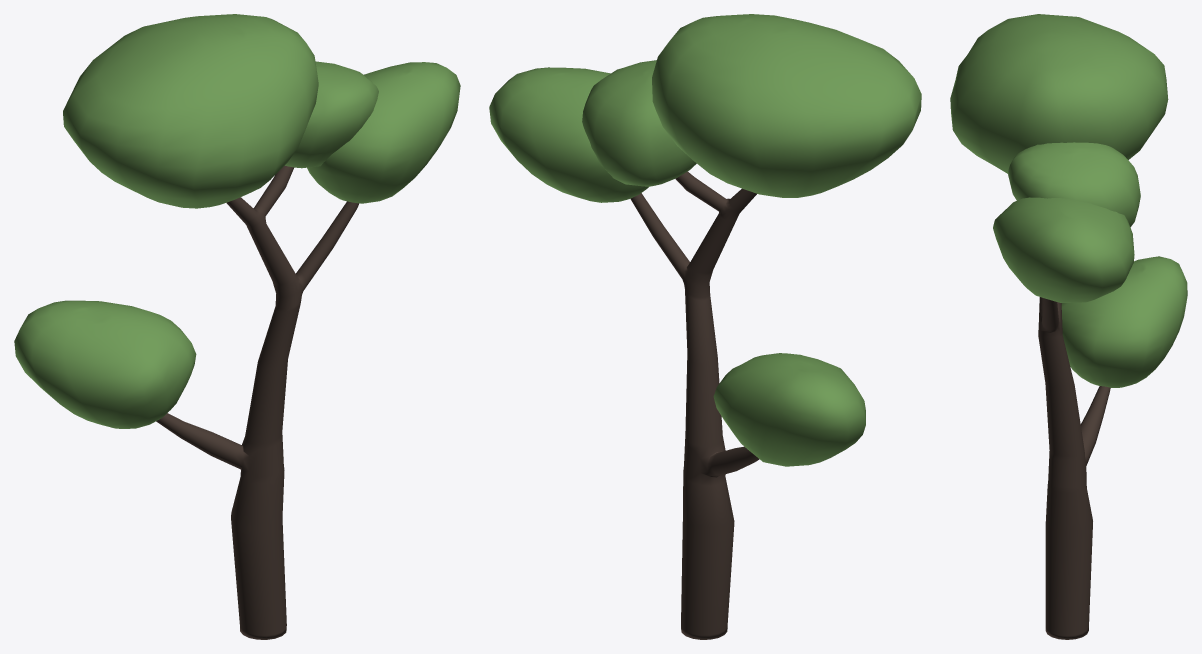
File: Mesh_Placeholder_Tree01.fbx
3 views of the same model, side by side, from view 1: azimuth 30°, elevation 25°; view 2: azimuth 150°, elevation 25°; view 3: azimuth 270°, elevation 25° (orthographic). The views are drawn at different scales.
Parts seen in each view (by area): view 1: Leaf3, Trunk, Leaf1, Leaf4, Leaf2; view 2: Leaf3, Trunk, Leaf1, Leaf4, Leaf2; view 3: Leaf3, Trunk, Leaf4, Leaf1, Leaf2.
Part boxes in pixels (x1=…): Leaf3: x1=63, y1=14, x2=318, y2=208; Trunk: x1=156, y1=165, x2=359, y2=639; Leaf1: x1=14, y1=300, x2=196, y2=428; Leaf4: x1=307, y1=62, x2=460, y2=203; Leaf2: x1=285, y1=61, x2=378, y2=168; Leaf3: x1=652, y1=14, x2=921, y2=197; Trunk: x1=630, y1=171, x2=759, y2=639; Leaf1: x1=713, y1=353, x2=865, y2=466; Leaf4: x1=489, y1=67, x2=648, y2=202; Leaf2: x1=582, y1=60, x2=696, y2=186; Leaf3: x1=950, y1=14, x2=1168, y2=173; Trunk: x1=1038, y1=297, x2=1110, y2=639; Leaf4: x1=993, y1=197, x2=1134, y2=302; Leaf1: x1=1061, y1=256, x2=1187, y2=387; Leaf2: x1=1008, y1=142, x2=1140, y2=227.
Bounding box in the file's own units: 101 × 149 × 56.76.
